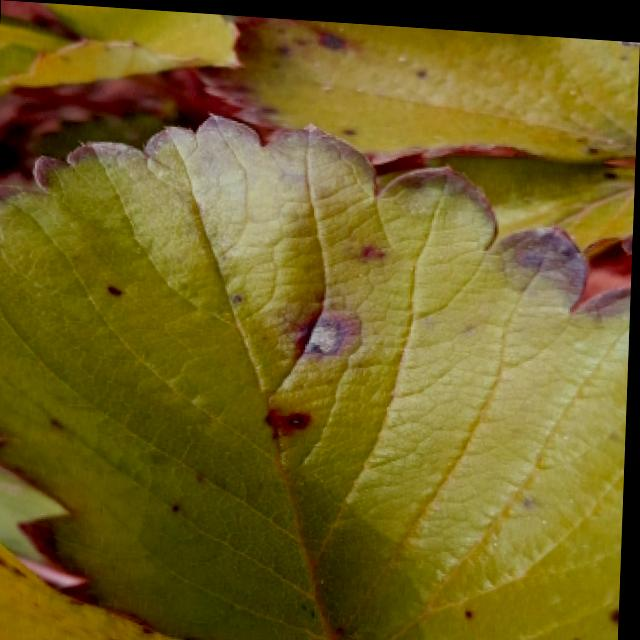Leaf Spot: (0, 108, 633, 640), (180, 12, 640, 172), (447, 149, 637, 257), (0, 541, 190, 640)
